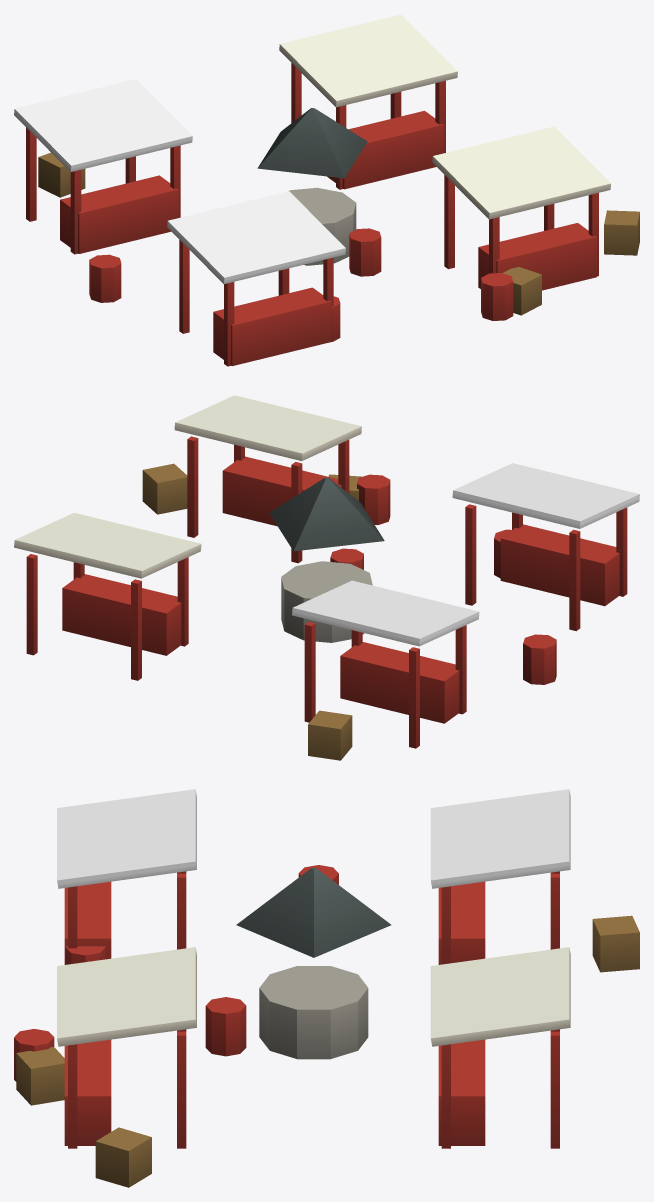
File: MARKET_EA.glb
The picture shows the model from 3 angles, top to bottom: view 1: azimuth 30°, elevation 25°; view 2: azimuth 150°, elevation 25°; view 3: azimuth 270°, elevation 25°; orthographic projection. The views are drawn at different scales.
Visible parts, largest first — view 1: Body; view 2: Body; view 3: Body.
Boxes of the visible parts, x1,y1,x2,y2 form: Body: [14, 14, 639, 366]; Body: [14, 395, 639, 760]; Body: [14, 789, 639, 1187].
Size of the model in its own units: 4.26 by 1.2 by 4.02.
1 material, 1 textured.
